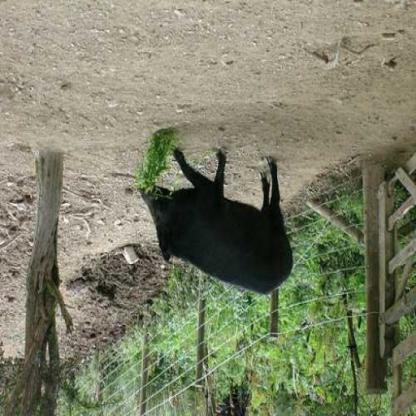boar: (134, 145, 306, 307)
